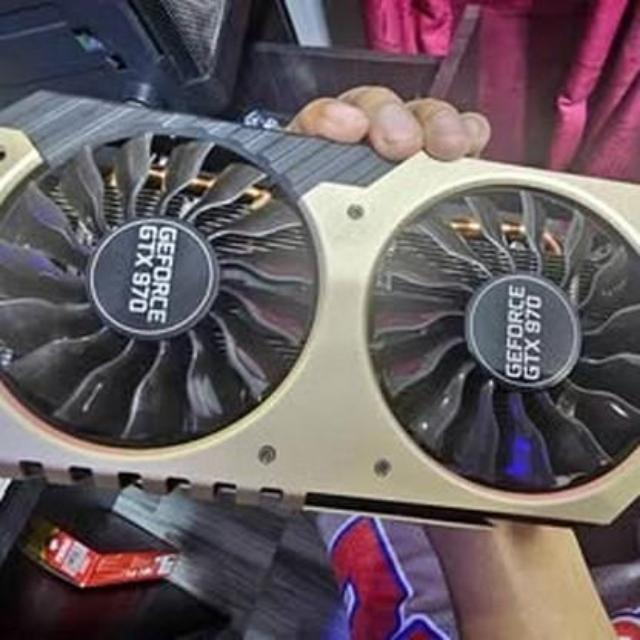GPU: (0, 84, 640, 546)
